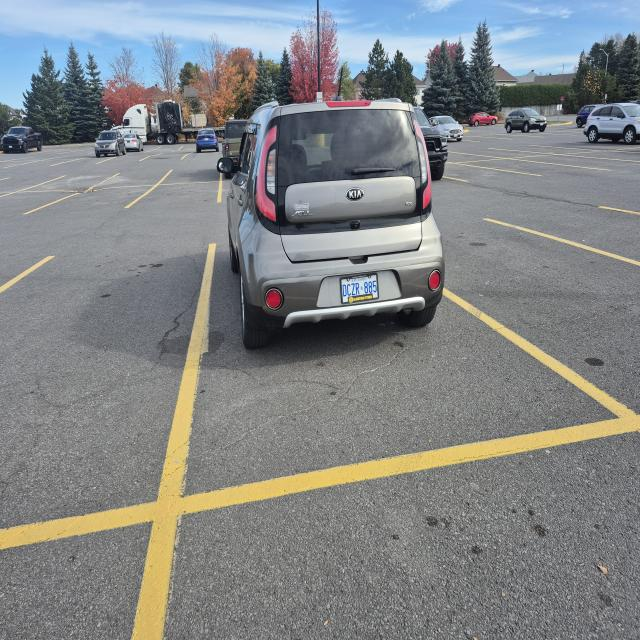plaque: (340, 274, 379, 304), (9, 146, 12, 148)
